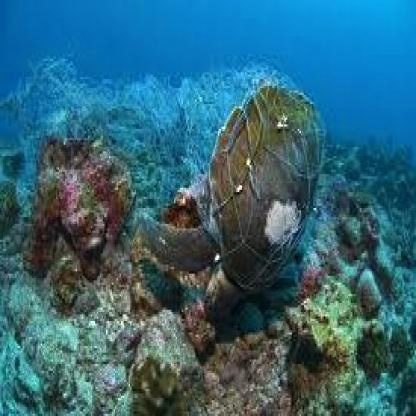net: (0, 52, 325, 241)
